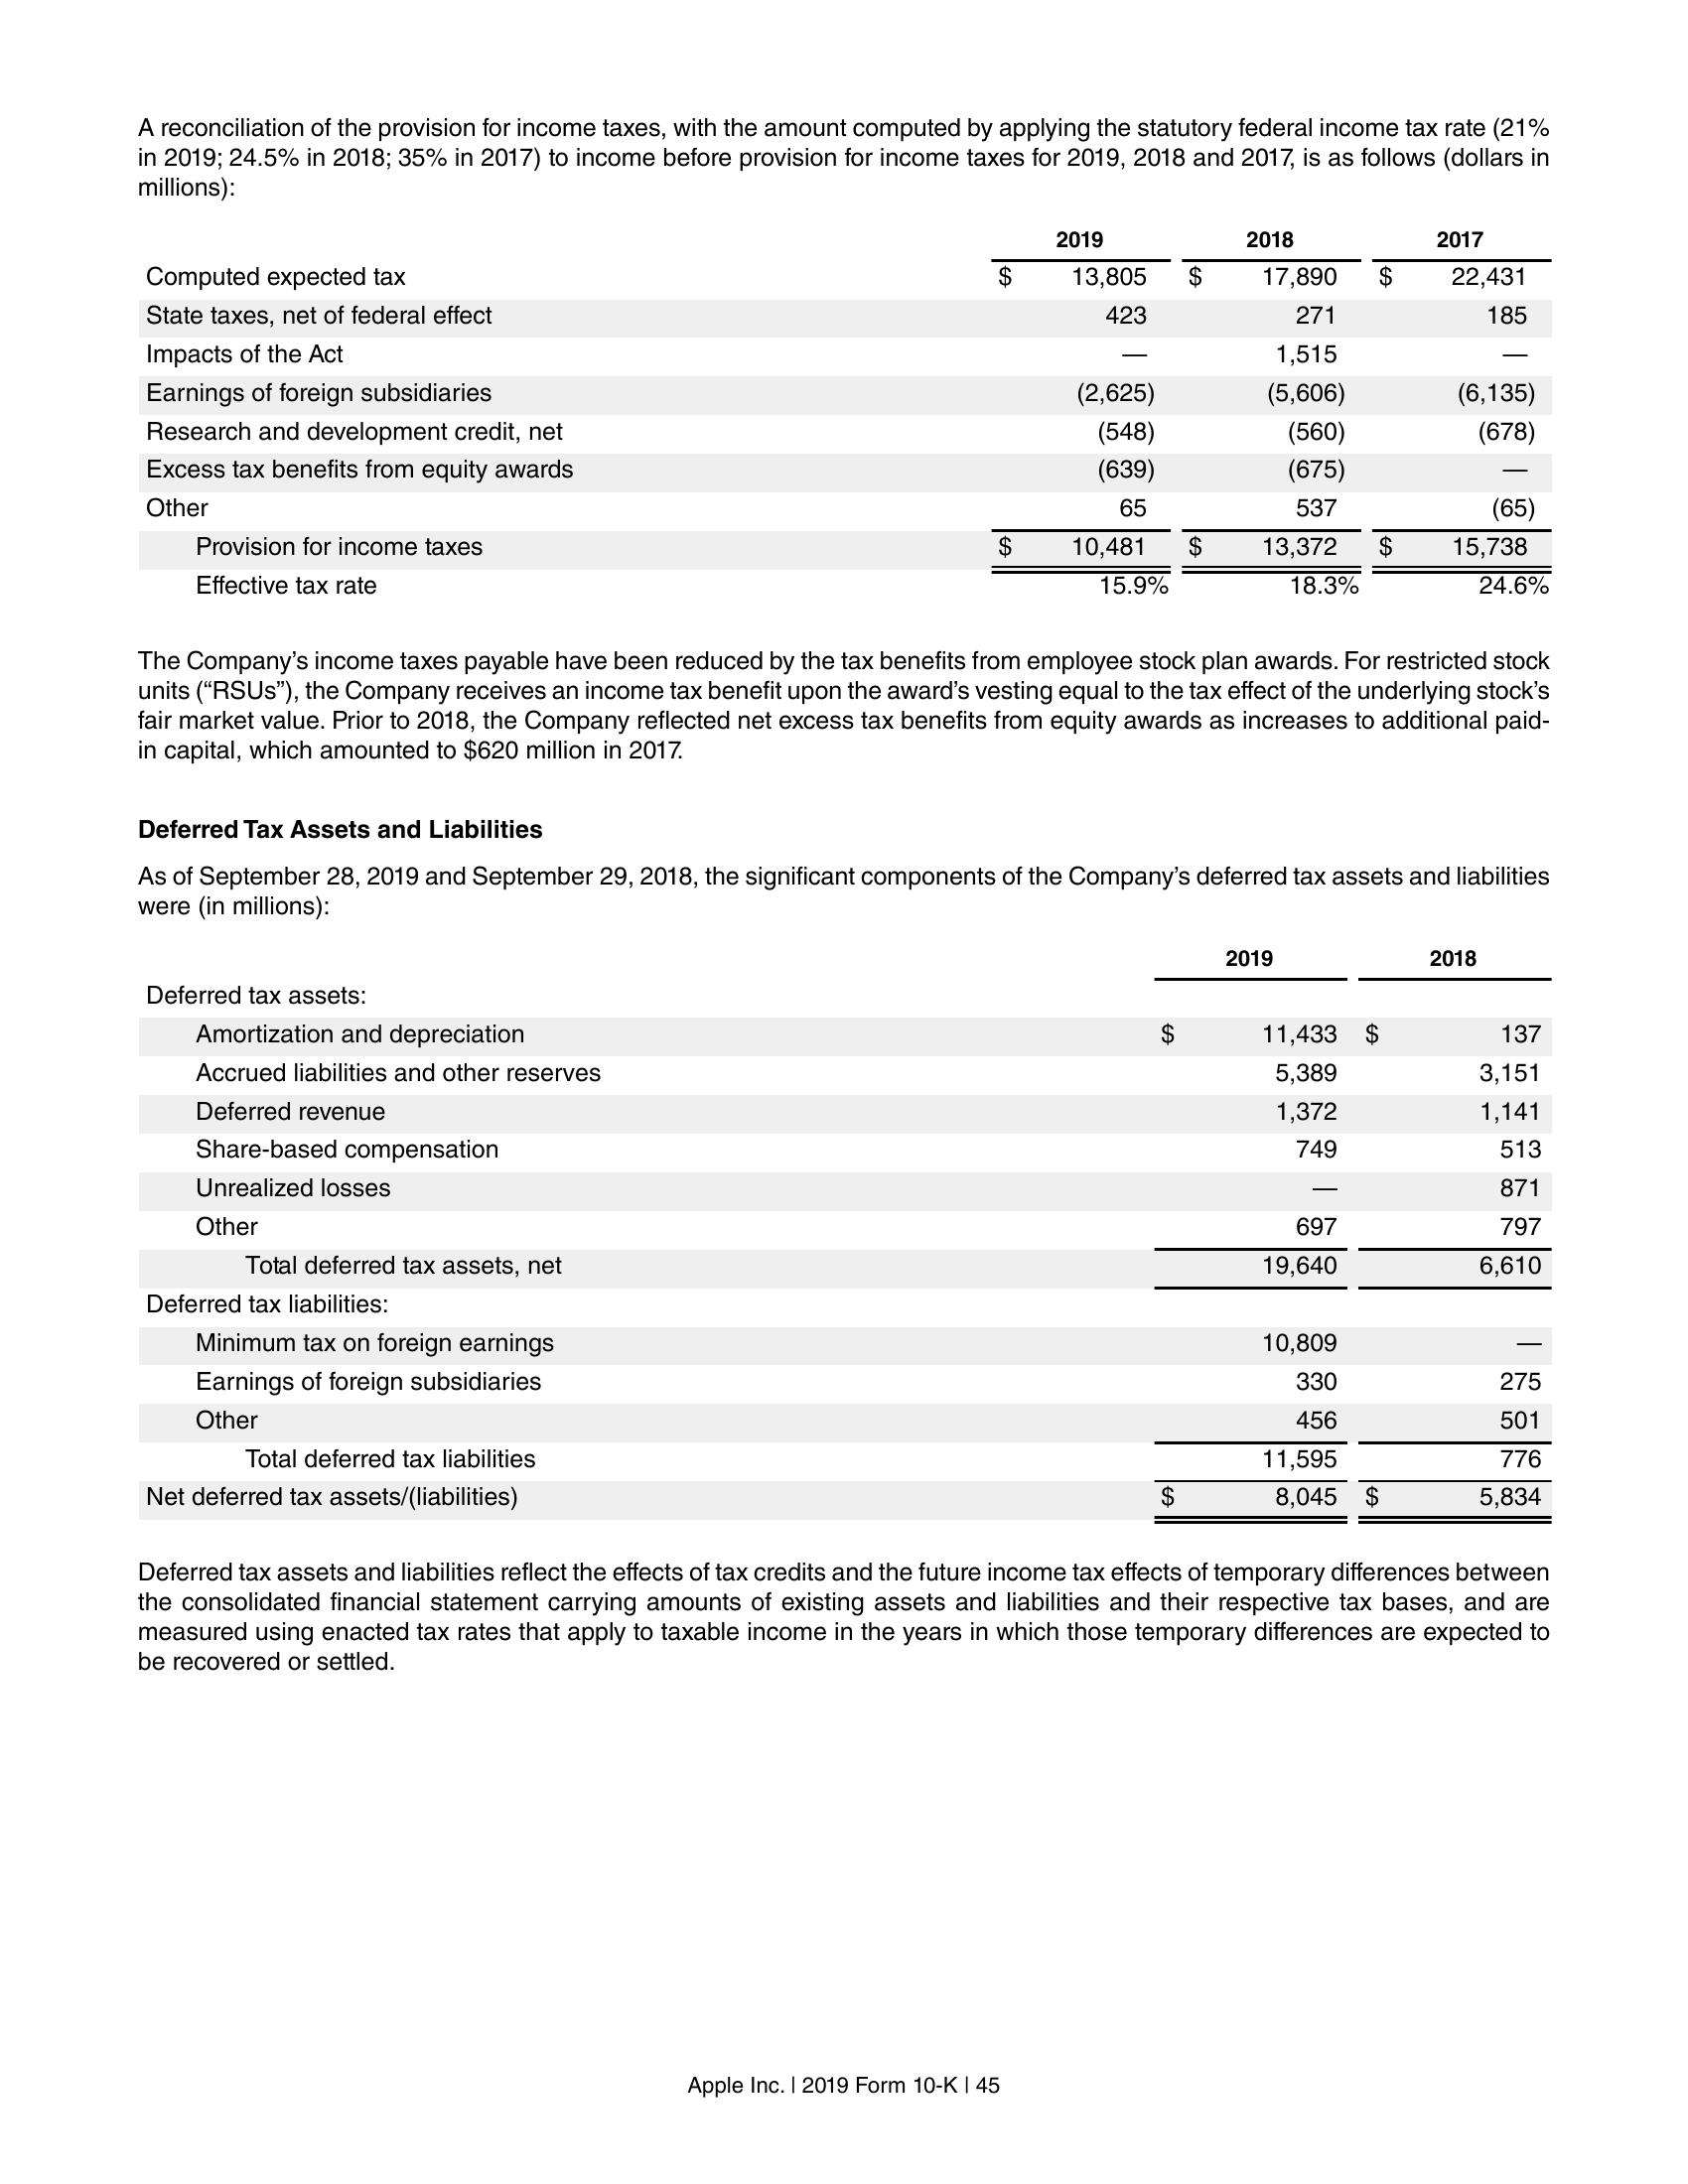table: (135, 940, 1551, 1528), (142, 223, 1560, 603)
